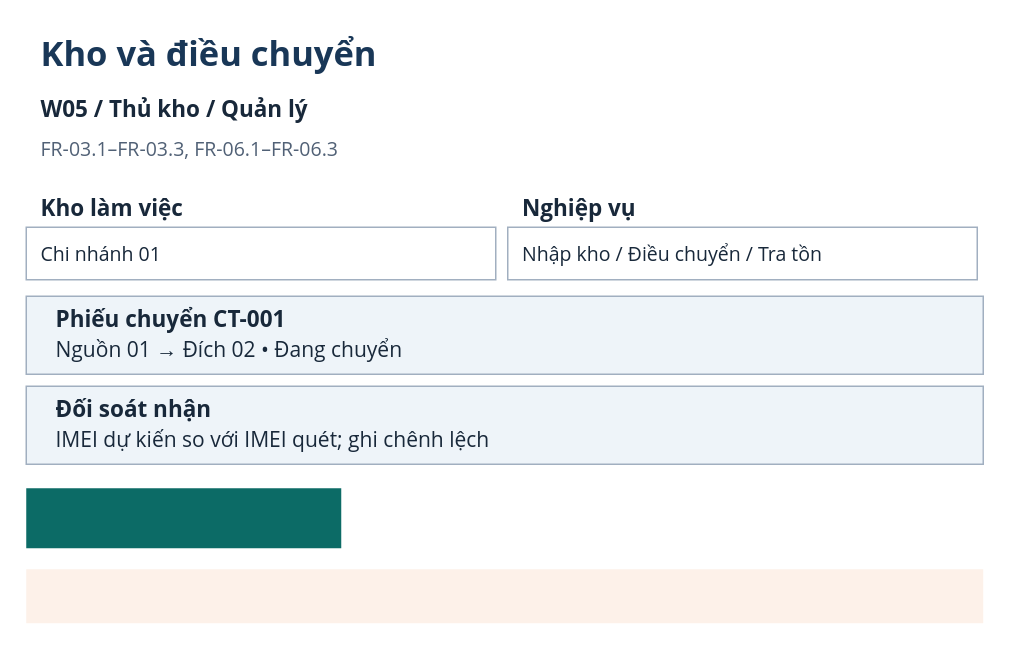
Some shapes in this 1010 by 648 pixel diagram are drawn without their labels. Here are the shapes that lost their labels. From the top down, the box of each, then its label:
(26, 488, 340, 548): Đối soát phiếu
(26, 568, 982, 622): Có hàng lệch. Lập biên bản trước khi xác nhận.
